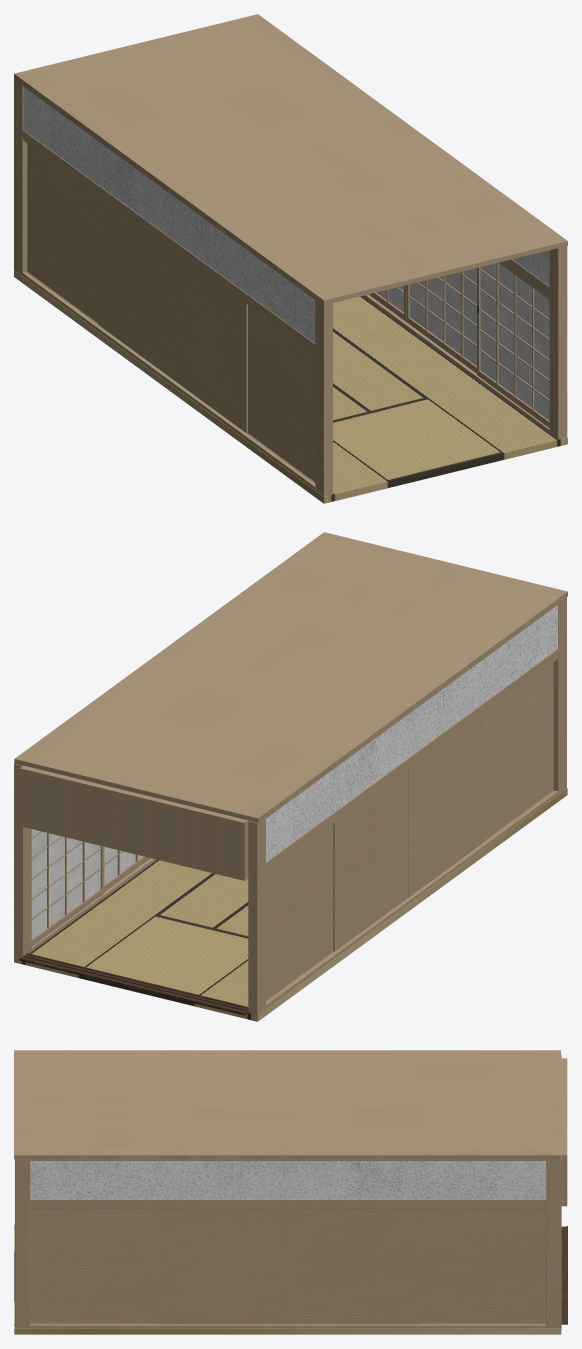
The model's file is interior.gltf.
3 views of the same model, one above another, from view 1: azimuth 30°, elevation 25°; view 2: azimuth 150°, elevation 25°; view 3: azimuth 270°, elevation 25° (orthographic). The views are drawn at different scales.
Visible parts, largest first — view 1: Nageshi.004, Plane.195, Plane.185; view 2: Plane.195, Nageshi.004, Plane.185, asset_base_id:31a32881-ae07-4f0b-8d87-2e50feb00932 asset_typ, Plane.147; view 3: Nageshi.004, Plane.195, Plane.185, asset_base_id:31a32881-ae07-4f0b-8d87-2e50feb00932 asset_typ, Plane.147.
Boxes of the visible parts, box(x1,y1,x2,y2) form: Nageshi.004: box(14, 78, 567, 496); Plane.195: box(14, 14, 567, 304); Plane.185: box(14, 270, 567, 503); Plane.195: box(14, 532, 567, 822); Nageshi.004: box(14, 597, 566, 1014); Plane.185: box(14, 788, 567, 1021); asset_base_id:31a32881-ae07-4f0b-8d87-2e50feb00932 asset_typ: box(19, 765, 248, 880); Plane.147: box(19, 953, 248, 1015); Nageshi.004: box(15, 1054, 561, 1328); Plane.195: box(14, 1050, 560, 1159); Plane.185: box(14, 1224, 561, 1334); asset_base_id:31a32881-ae07-4f0b-8d87-2e50feb00932 asset_typ: box(561, 1058, 567, 1206); Plane.147: box(561, 1226, 567, 1324).
Size of the model in its own units: 2.73 by 2.17 by 6.08.
3 materials, 3 textured.
